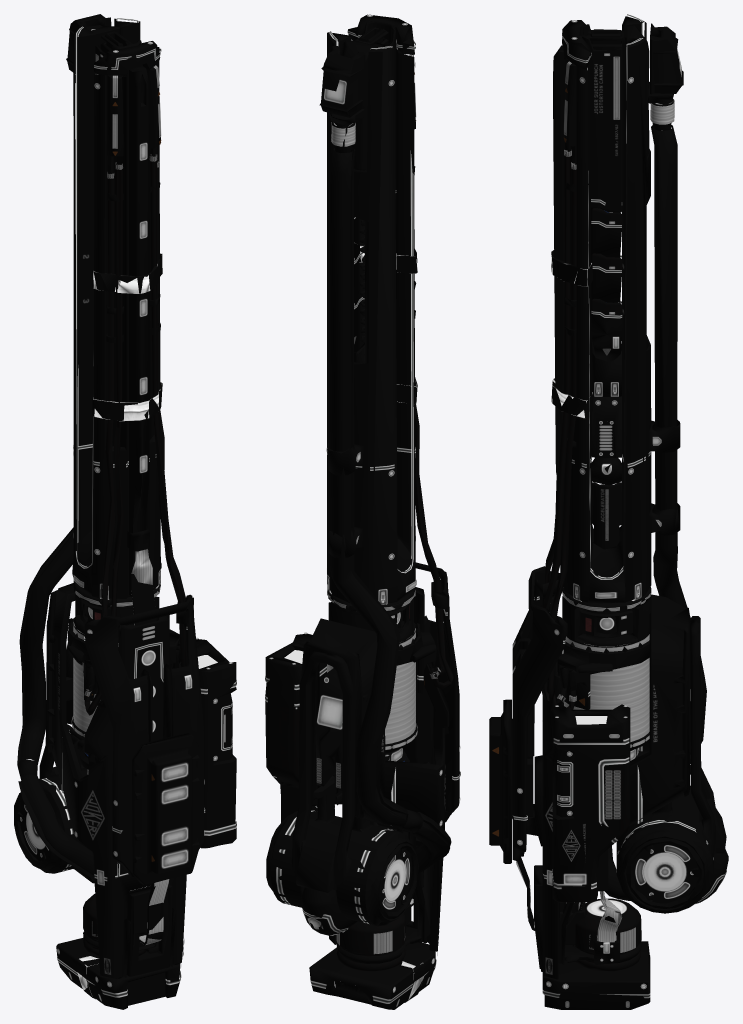
Rendered from suckerpunch-xl-cannon.glb.
The picture shows the model from 3 angles, left to right: view 1: azimuth 30°, elevation 25°; view 2: azimuth 150°, elevation 25°; view 3: azimuth 270°, elevation 25°; orthographic projection.
Parts seen in each view (by area): view 1: base, barrel, venting, jokr_dis_can_s1-3_mec\jokr_dis_can_s3_mec_1, jokr_dis_can_s1-3_pow\jokr_dis_can_s3_pow_1; view 2: base, barrel, venting, jokr_dis_can_s1-3_pow\jokr_dis_can_s3_pow_1, jokr_dis_can_s1-3_mec\jokr_dis_can_s3_mec_1, venting_rotation; view 3: base, barrel, venting, jokr_dis_can_s1-3_mec\jokr_dis_can_s3_mec_1, jokr_dis_can_s1-3_pow\jokr_dis_can_s3_pow_1, venting_rotation.
Part boxes in pixels (left/top/right/bottom): base: left=17, top=18, right=236, bottom=1009; barrel: left=66, top=14, right=162, bottom=598; venting: left=14, top=583, right=94, bottom=883; jokr_dis_can_s1-3_mec\jokr_dis_can_s3_mec_1: left=67, top=583, right=179, bottom=769; jokr_dis_can_s1-3_pow\jokr_dis_can_s3_pow_1: left=76, top=894, right=158, bottom=999; base: left=265, top=14, right=460, bottom=1009; barrel: left=319, top=14, right=417, bottom=603; venting: left=266, top=651, right=418, bottom=935; jokr_dis_can_s1-3_pow\jokr_dis_can_s3_pow_1: left=336, top=903, right=424, bottom=1002; jokr_dis_can_s1-3_mec\jokr_dis_can_s3_mec_1: left=313, top=588, right=436, bottom=805; venting_rotation: left=382, top=849, right=412, bottom=911; base: left=489, top=14, right=726, bottom=1009; barrel: left=551, top=16, right=683, bottom=603; venting: left=616, top=616, right=728, bottom=913; jokr_dis_can_s1-3_mec\jokr_dis_can_s3_mec_1: left=562, top=586, right=690, bottom=774; jokr_dis_can_s1-3_pow\jokr_dis_can_s3_pow_1: left=564, top=898, right=641, bottom=971; venting_rotation: left=632, top=842, right=698, bottom=903.
Bounding box in the file's own units: 0.7624 × 3.97 × 0.8868.
Materials: 29 (13 with a texture image).
